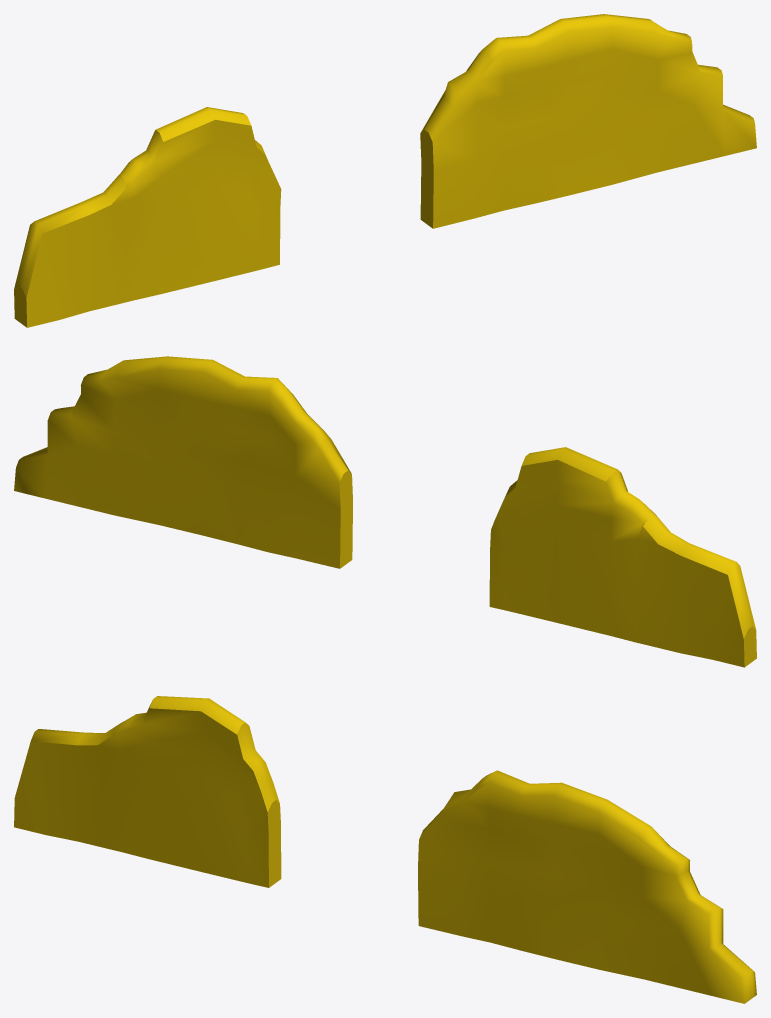
File: Prop_RuinWall4.FBX
3 renders of one model, top to bottom at view 1: azimuth 30°, elevation 25°; view 2: azimuth 150°, elevation 25°; view 3: azimuth 330°, elevation 25°, orthographic.
Visible parts, largest first — view 1: Ruin wall 4; view 2: Ruin wall 4; view 3: Ruin wall 4.
Boxes of the visible parts, x1,y1,x2,y2 form: Ruin wall 4: (14, 14, 756, 327); Ruin wall 4: (14, 356, 756, 667); Ruin wall 4: (14, 696, 756, 1003).
Size of the model in its own units: 699 by 156 by 24.68.
